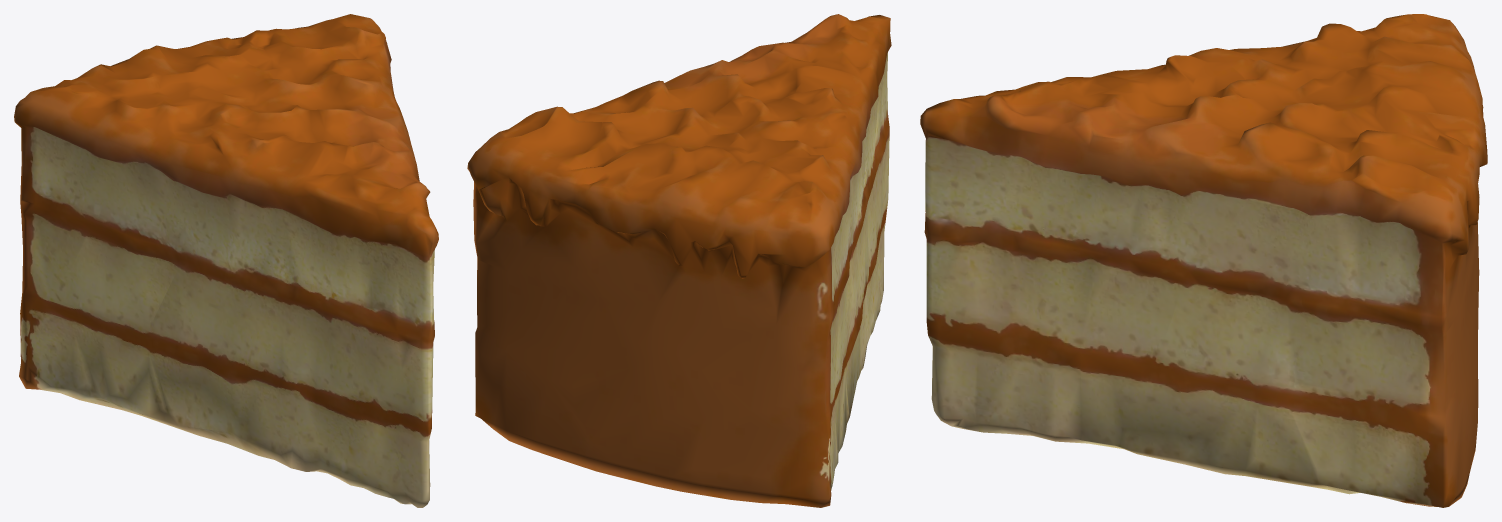
File: Slice of Cake-optimized.glb
The picture shows the model from 3 angles, left to right: view 1: azimuth 30°, elevation 25°; view 2: azimuth 150°, elevation 25°; view 3: azimuth 270°, elevation 25°; orthographic projection. The views are drawn at different scales.
Visible parts, largest first — view 1: slice_of_cake.1; view 2: slice_of_cake.1; view 3: slice_of_cake.1.
Boxes of the visible parts, x1=… form: slice_of_cake.1: x1=14, y1=14, x2=438, y2=507; slice_of_cake.1: x1=467, y1=14, x2=891, y2=507; slice_of_cake.1: x1=920, y1=14, x2=1487, y2=507.
Bounding box in the file's own units: 0.0523 × 0.0428 × 0.0642.
1 material, 1 textured.
